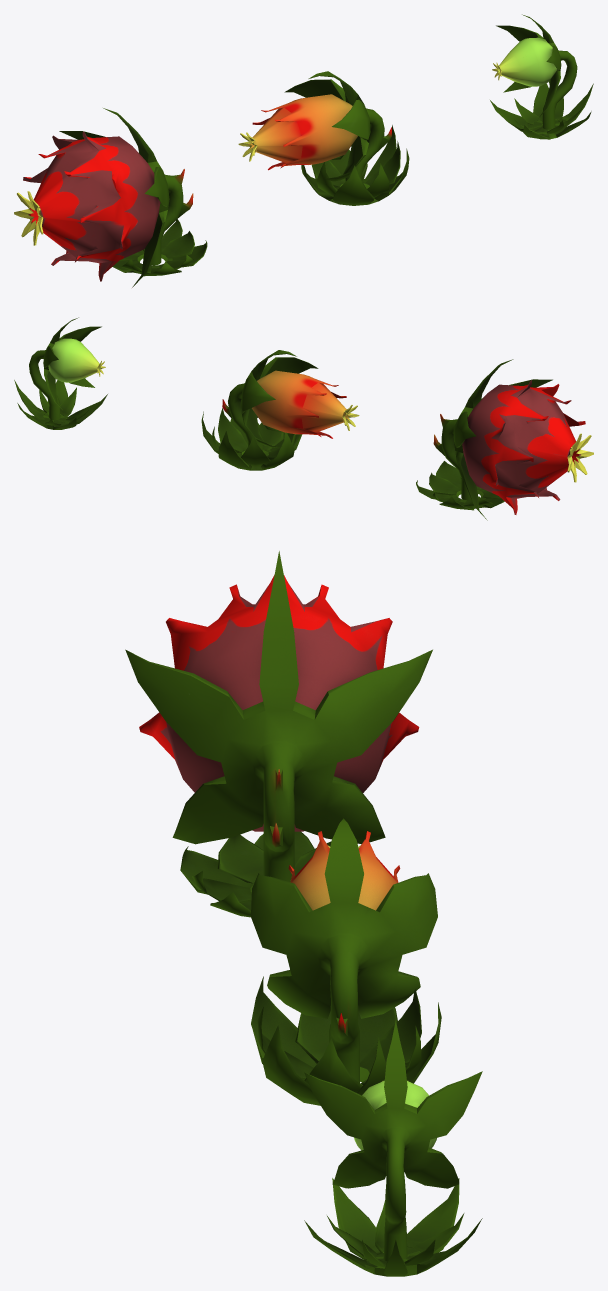
Rendered from plants.FBX.
The picture shows the model from 3 angles, top to bottom: view 1: azimuth 30°, elevation 25°; view 2: azimuth 150°, elevation 25°; view 3: azimuth 270°, elevation 25°; orthographic projection. The views are drawn at different scales.
Visible parts, largest first — view 1: large, medium, small; view 2: large, medium, small; view 3: large, medium, small.
Boxes of the visible parts, x1,y1,x2,y2 form: large: (14, 108, 207, 287); medium: (238, 71, 409, 205); small: (490, 14, 593, 139); large: (416, 359, 593, 520); medium: (201, 350, 359, 470); small: (14, 317, 107, 429); large: (125, 551, 432, 917); medium: (251, 818, 441, 1105); small: (304, 1020, 482, 1276).
Bounding box in the file's own units: 118 × 31.93 × 34.03.
3 materials, 3 textured.
